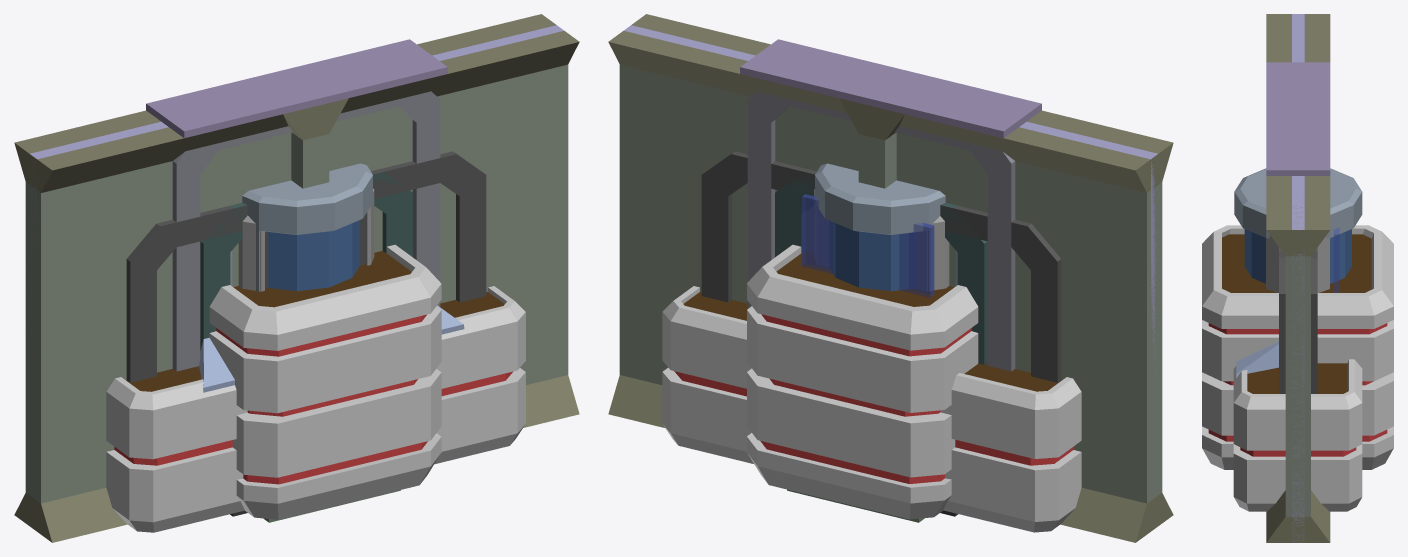
File: low poly sci fi set.fbx
The picture shows the model from 3 angles, left to right: view 1: azimuth 30°, elevation 25°; view 2: azimuth 150°, elevation 25°; view 3: azimuth 270°, elevation 25°; orthographic projection. The views are drawn at different scales.
Visible parts, largest first — view 1: Wall_2_X4, Crate_004, Wall_2_Window, Crate_002, Wall_2_Doorway, WindowFrame_001, Wall_2_Window_002, Doorway_001, Pod_001, Roof_Light_001, Roof_Light_002, Wall_2_X2 (+8 smaller); view 2: Wall_2_X4, Crate_004, Wall_2_Window, Crate_002, Wall_2_Doorway, Doorway_001, WindowFrame_001, Roof_Light_001, Pod_001, Wall_2_Window_002, Wall_2_X2, Roof_Light_002 (+9 smaller); view 3: Crate_004, Wall_2_X4, Crate_002, Roof_Light_001, Wall_2_Window, Pod_001, Roof_Light_002, Glass_Barrier_001, WindowFrame_001, Wall_2_Doorway, Locker_001, Console_001 (+1 smaller).
Part boxes in pixels (left/top/right/bottom): Wall_2_X4: left=14, top=14, right=579, bottom=542; Crate_004: left=209, top=244, right=441, bottom=519; Wall_2_Window: left=14, top=15, right=579, bottom=541; Crate_002: left=106, top=286, right=525, bottom=532; Wall_2_Doorway: left=15, top=16, right=569, bottom=542; WindowFrame_001: left=126, top=151, right=486, bottom=382; Wall_2_Window_002: left=43, top=64, right=568, bottom=383; Doorway_001: left=172, top=91, right=440, bottom=371; Pod_001: left=230, top=163, right=372, bottom=291; Roof_Light_001: left=146, top=48, right=447, bottom=138; Roof_Light_002: left=148, top=39, right=445, bottom=137; Wall_2_X2: left=173, top=107, right=405, bottom=285; Wall_2_X4: left=608, top=14, right=1173, bottom=542; Crate_004: left=747, top=244, right=978, bottom=519; Wall_2_Window: left=608, top=15, right=1163, bottom=542; Crate_002: left=662, top=286, right=1081, bottom=532; Wall_2_Doorway: left=614, top=16, right=1173, bottom=534; Doorway_001: left=747, top=91, right=1015, bottom=371; WindowFrame_001: left=701, top=151, right=1061, bottom=382; Roof_Light_001: left=740, top=39, right=1041, bottom=137; Pod_001: left=815, top=163, right=957, bottom=291; Wall_2_Window_002: left=799, top=109, right=1146, bottom=502; Wall_2_X2: left=740, top=74, right=1014, bottom=287; Roof_Light_002: left=740, top=39, right=1041, bottom=138; Crate_004: left=1202, top=225, right=1393, bottom=469; Wall_2_X4: left=1266, top=14, right=1330, bottom=542; Crate_002: left=1233, top=359, right=1362, bottom=511; Roof_Light_001: left=1266, top=62, right=1330, bottom=175; Wall_2_Window: left=1266, top=14, right=1330, bottom=542; Pod_001: left=1234, top=168, right=1362, bottom=283; Roof_Light_002: left=1266, top=62, right=1330, bottom=175; Glass_Barrier_001: left=1292, top=14, right=1304, bottom=542; WindowFrame_001: left=1279, top=251, right=1317, bottom=393; Wall_2_Doorway: left=1266, top=14, right=1330, bottom=542; Locker_001: left=1266, top=235, right=1329, bottom=292; Console_001: left=1236, top=227, right=1339, bottom=378.
Bounding box in the file's own units: 4 × 3 × 1.5.
